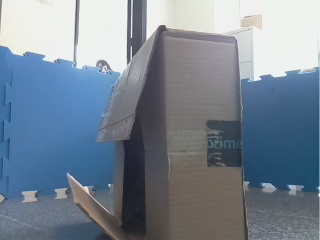caja_rota: (94, 30, 240, 240)
